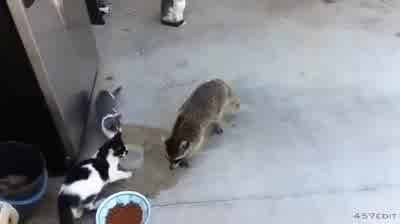raccoon: (163, 78, 241, 169)
